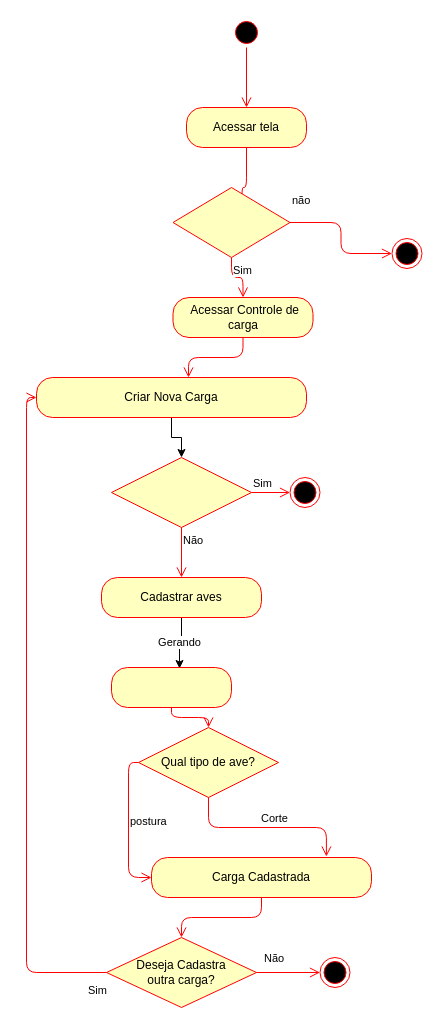
Image size: 440x1025. Some labels were removed from this diagram. Here are the shapes that lost their labels. From the top down, the box of each, then its label:
(172, 186, 290, 258): Confirmar Usuario
(110, 456, 252, 528): Carga ja possui aves?
(110, 666, 232, 708): ID
